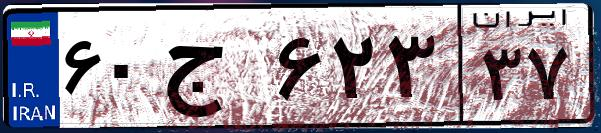0: (110, 28, 158, 98)
2: (330, 28, 385, 110)
3: (385, 28, 445, 110), (475, 38, 525, 113)
6: (270, 28, 330, 110), (57, 26, 110, 100)
7: (525, 38, 570, 115)
ج: (158, 20, 270, 120)
